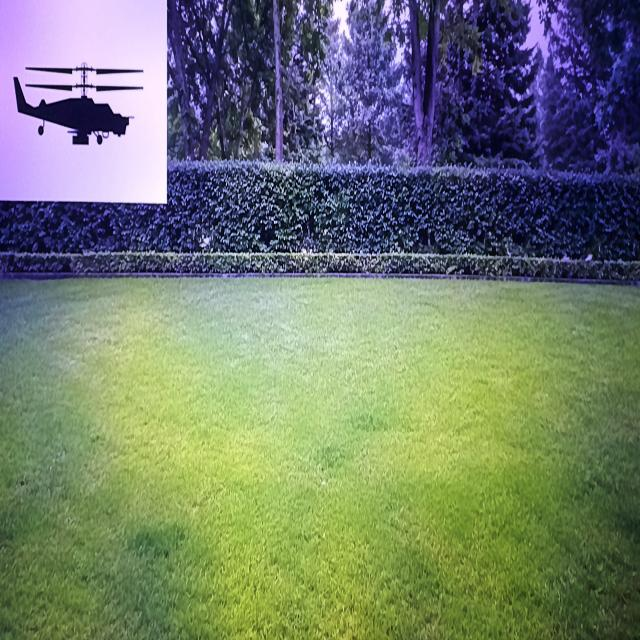Ka-52 Enemy: (14, 64, 142, 144)
